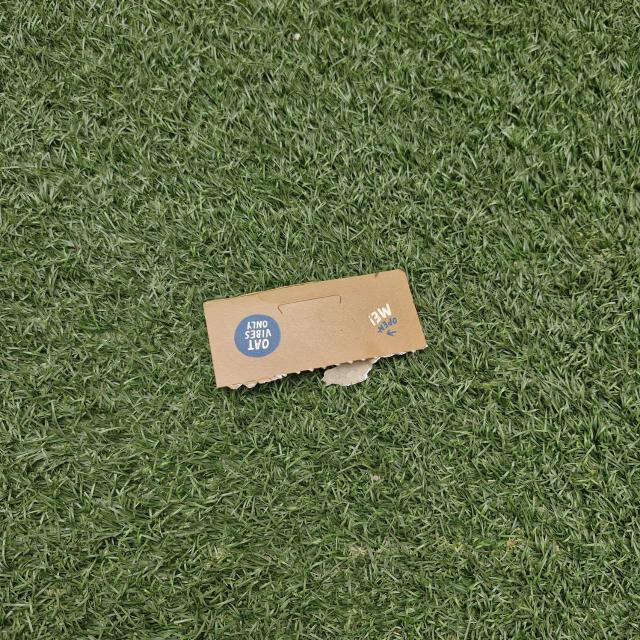paper: (192, 252, 434, 409)
